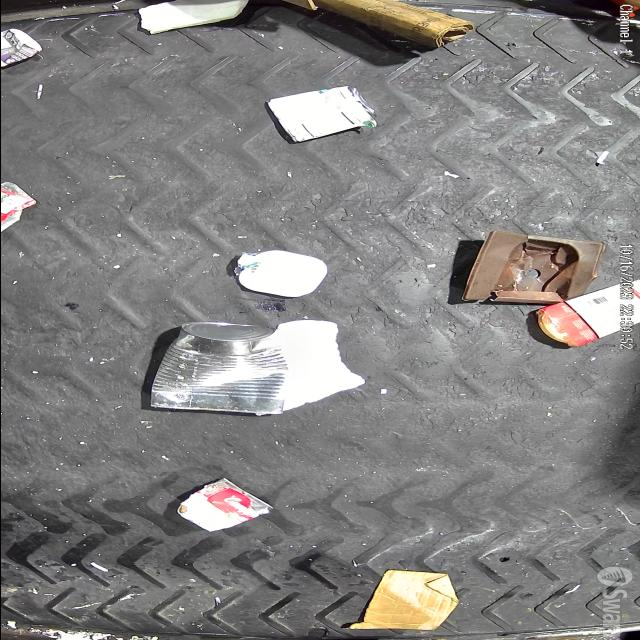can: (150, 322, 288, 414), (263, 85, 378, 144), (176, 478, 274, 532)
